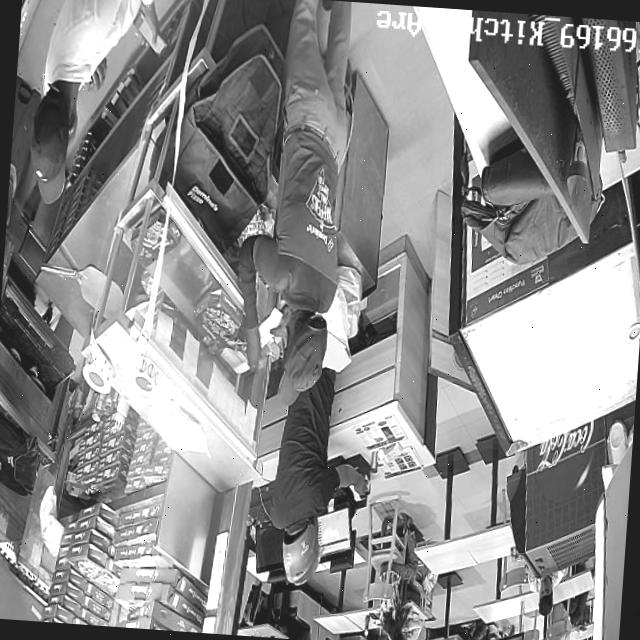helmet: (281, 517, 322, 586)
no_helmet: (27, 83, 79, 204), (278, 308, 328, 405)
